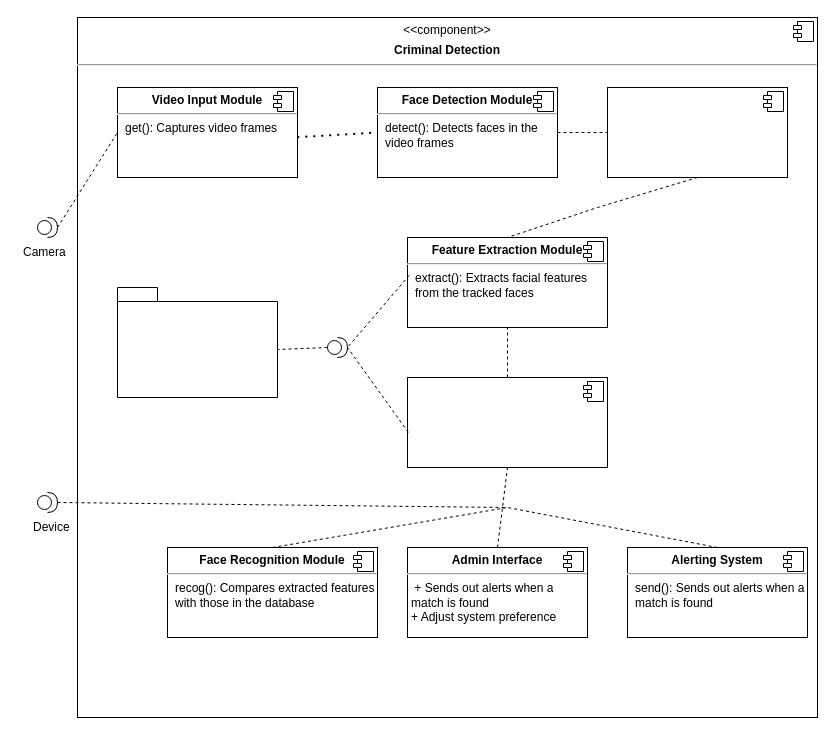
Image size: 835x735. Some labels were removed from this diagram. Each missing label, with the box of its shape:
Database: (116, 286, 278, 398)
Database Interface Interacts with the database to fetch stored features: (406, 376, 608, 468)
Face Tracking Module track(): Tracks detected faces over multiple frames: (606, 86, 788, 178)
